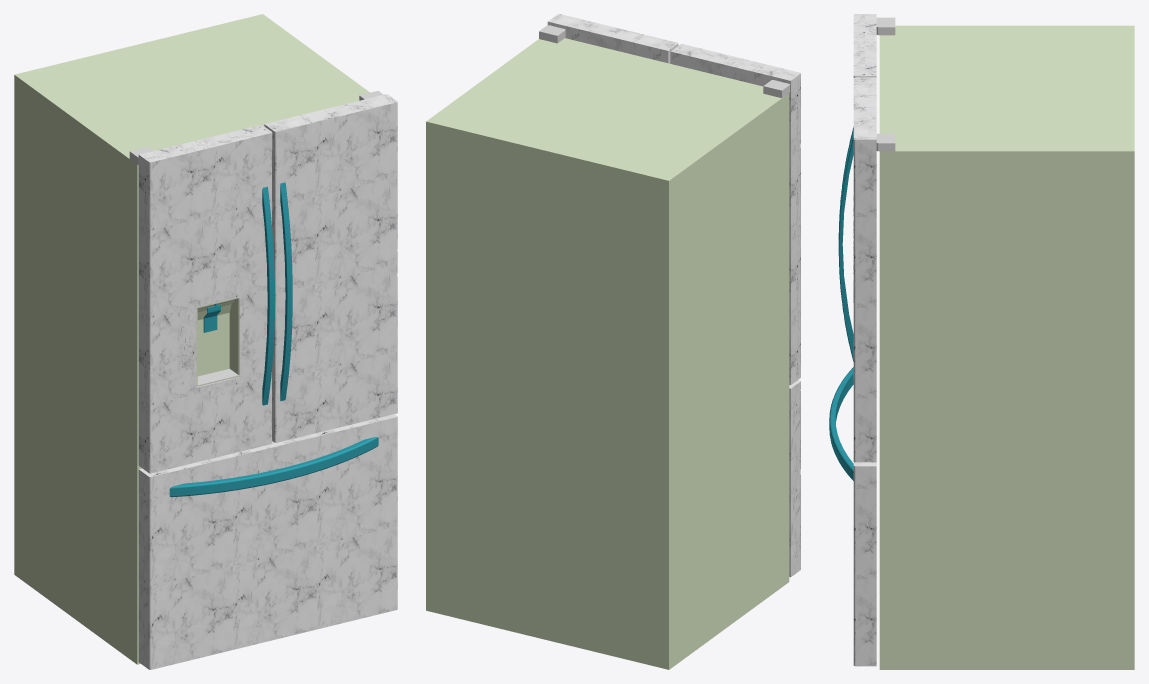
File: refri_ldg.obj
3 renders of one model, left to right at view 1: azimuth 30°, elevation 25°; view 2: azimuth 150°, elevation 25°; view 3: azimuth 270°, elevation 25°, orthographic. The views are drawn at different scales.
Visible parts, largest first — view 1: LG_French_Doors:_Extrusion__4155_1; view 2: LG_French_Doors:_Extrusion__4155_1; view 3: LG_French_Doors:_Extrusion__4155_1.
Part boxes in pixels (box(x1,y1,x2,y2)): LG_French_Doors:_Extrusion__4155_1: box(14, 14, 397, 669); LG_French_Doors:_Extrusion__4155_1: box(426, 14, 800, 669); LG_French_Doors:_Extrusion__4155_1: box(829, 14, 1134, 669).
Bounding box in the file's own units: 1.8 × 3.53 × 1.84.
4 materials, 3 textured.
